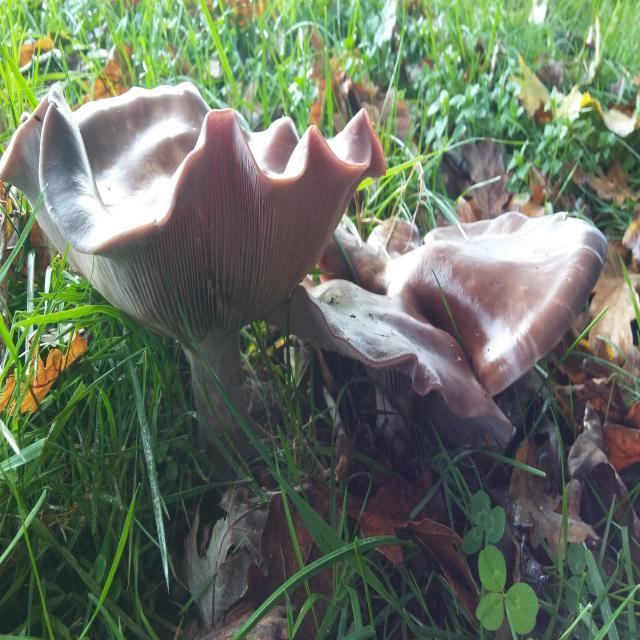Clitocybe maxima: (6, 81, 385, 426), (288, 213, 607, 439)
